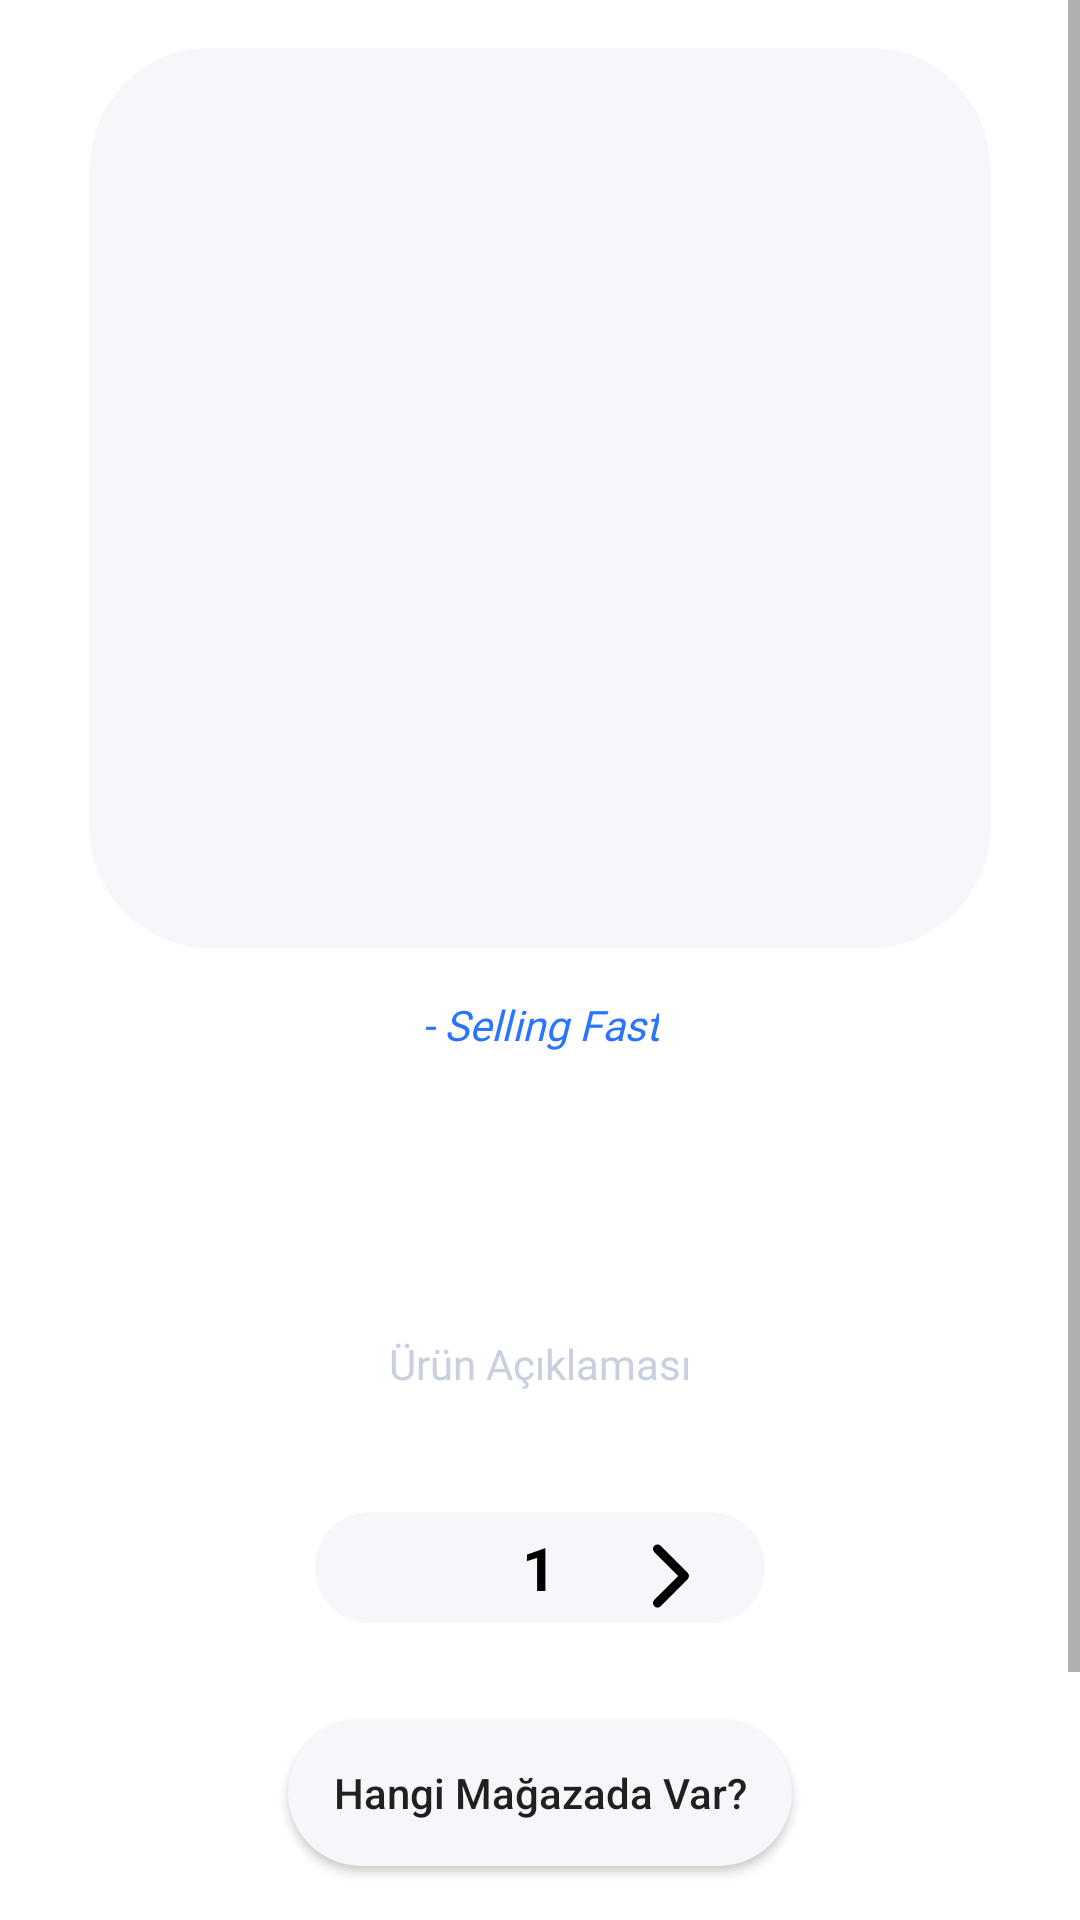

Screen size 1080×1920. Icon name, then its center in pixels as point (x, y):
next: point (671, 1576)
